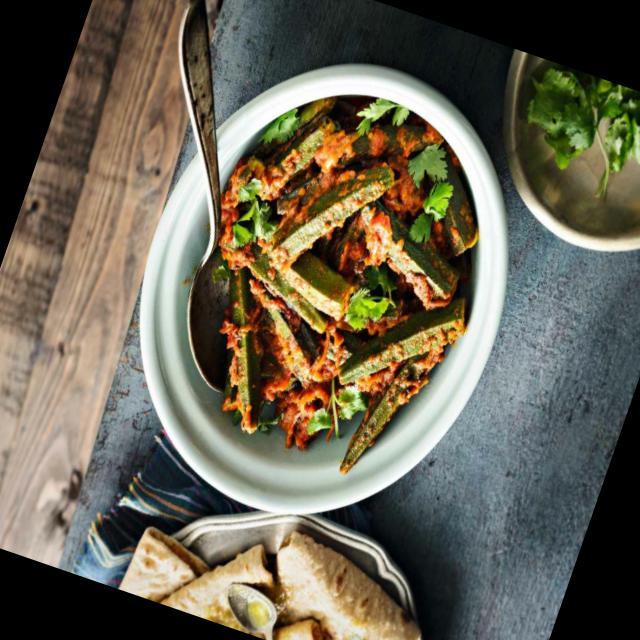BhindiMasala: (149, 60, 526, 497)
